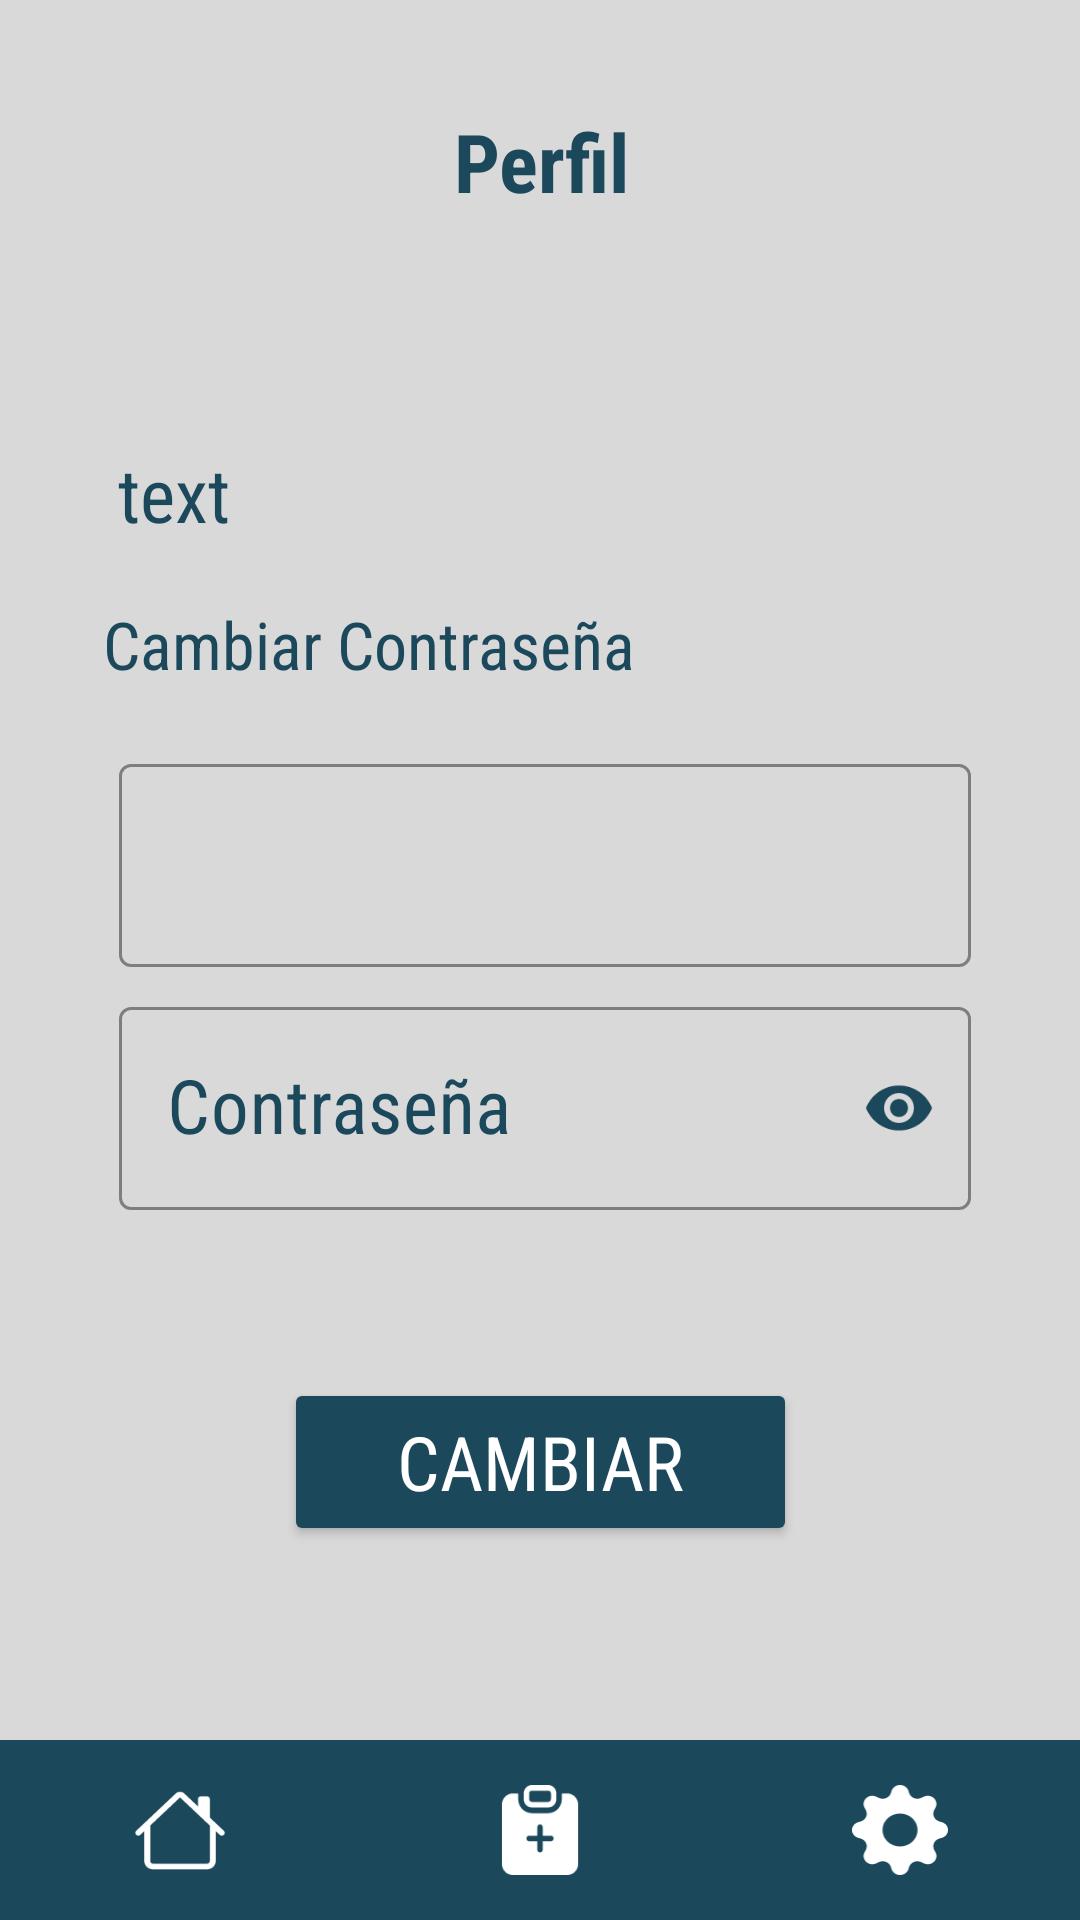

Point at icon controls on the screen. Image size 1080x1920, points as point (x, y).
Agregar: point (540, 1830)
Configuración: point (900, 1830)
Inicio: point (180, 1830)
